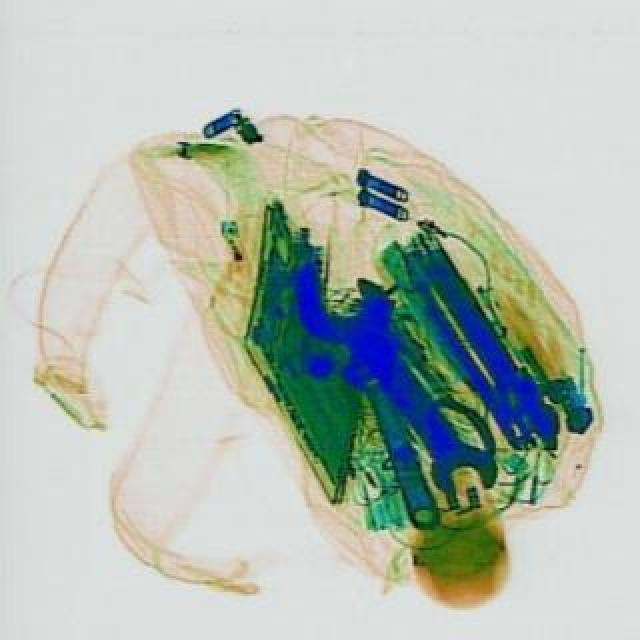scissors: (306, 272, 506, 508)
